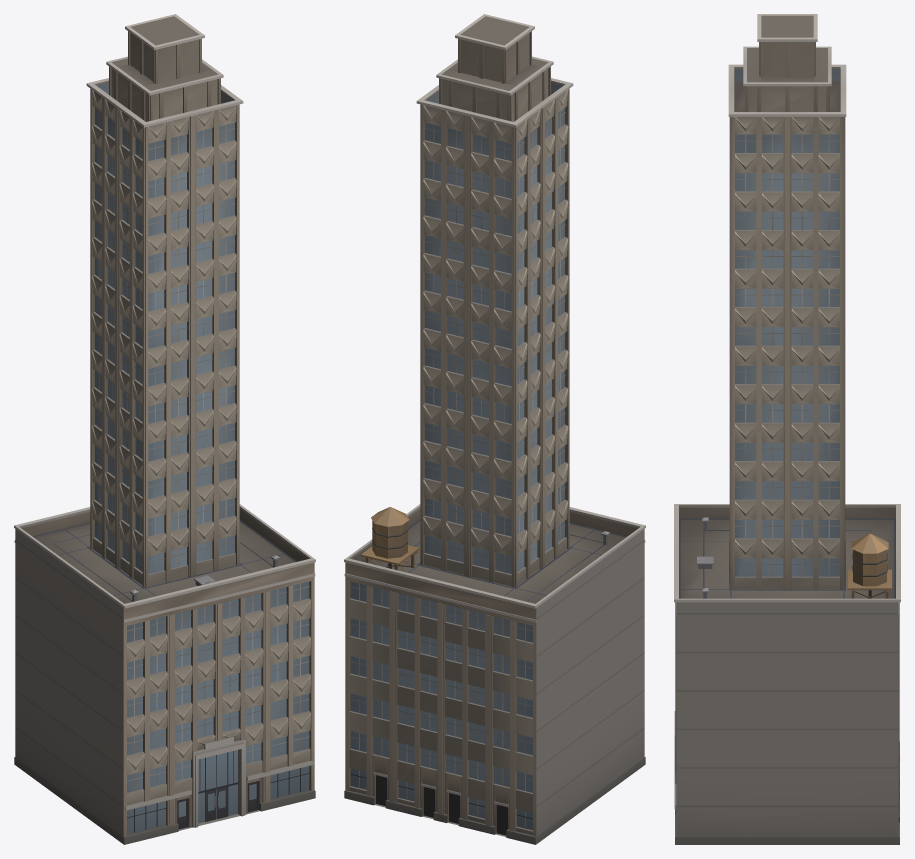
File: deco.glb
3 views of the same model, side by side, from view 1: azimuth 30°, elevation 25°; view 2: azimuth 150°, elevation 25°; view 3: azimuth 270°, elevation 25° (orthographic). The views are drawn at different scales.
Parts seen in each view (by area): view 1: deco; view 2: deco; view 3: deco.
Part boxes in pixels (x1=…): deco: x1=14, y1=14, x2=315, y2=844; deco: x1=344, y1=14, x2=645, y2=844; deco: x1=674, y1=14, x2=900, y2=844.
Bounding box in the file's own units: 16 × 60 × 16.
